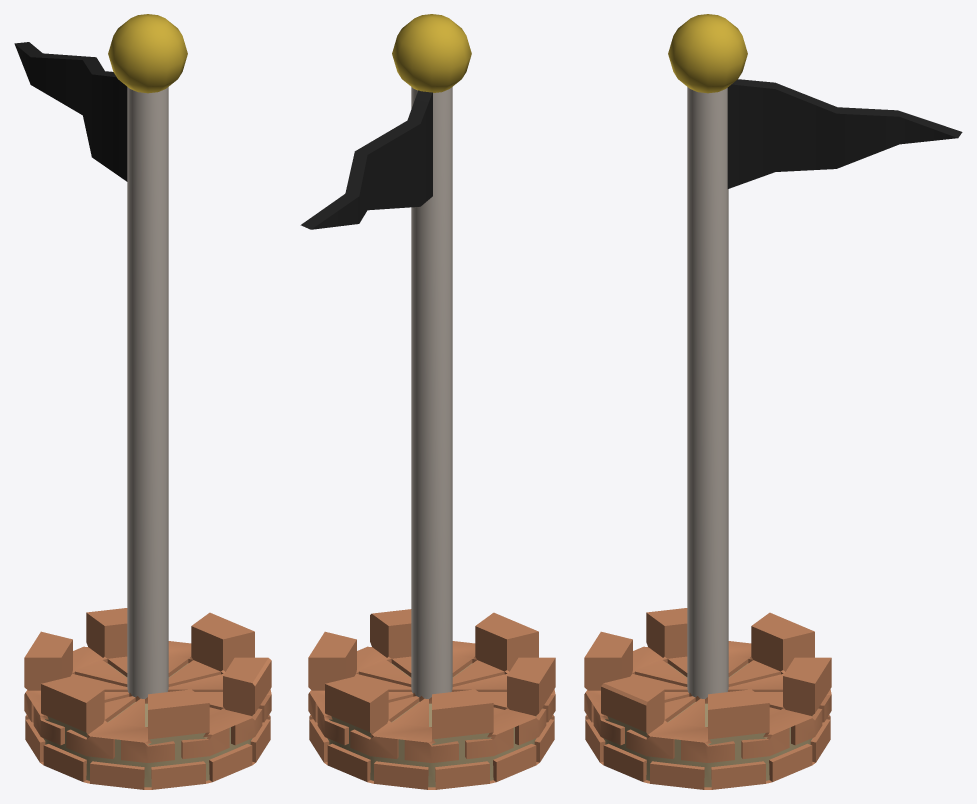
File: SM_Flag.fbx
3 renders of one model, left to right at view 1: azimuth 30°, elevation 25°; view 2: azimuth 150°, elevation 25°; view 3: azimuth 270°, elevation 25°, orthographic.
Parts seen in each view (by area): view 1: SM_Flag; view 2: SM_Flag; view 3: SM_Flag.
Part boxes in pixels (x1,y1,x2,y2): SM_Flag: (14, 14, 271, 789); SM_Flag: (300, 14, 555, 789); SM_Flag: (584, 14, 962, 789).
Size of the model in its own units: 1.48 by 4.76 by 2.26.
